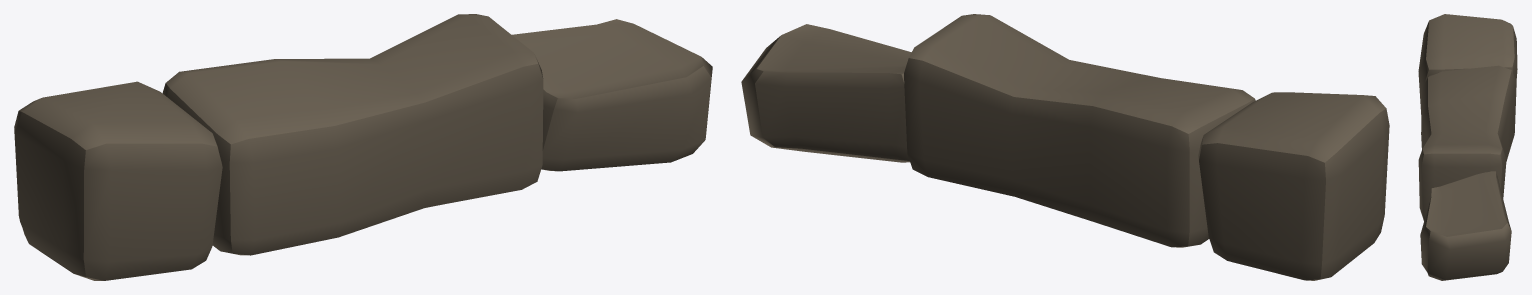
The model's file is Destroyed Wall 0.fbx.
3 renders of one model, left to right at view 1: azimuth 30°, elevation 25°; view 2: azimuth 150°, elevation 25°; view 3: azimuth 270°, elevation 25°, orthographic. The views are drawn at different scales.
Visible parts, largest first — view 1: polySurface1586; view 2: polySurface1586; view 3: polySurface1586.
Boxes of the visible parts, x1,y1,x2,y2 form: polySurface1586: (14,14,712,280); polySurface1586: (741,14,1389,280); polySurface1586: (1418,14,1517,280).
Size of the model in its own units: 10.67 by 2.72 by 2.41.
